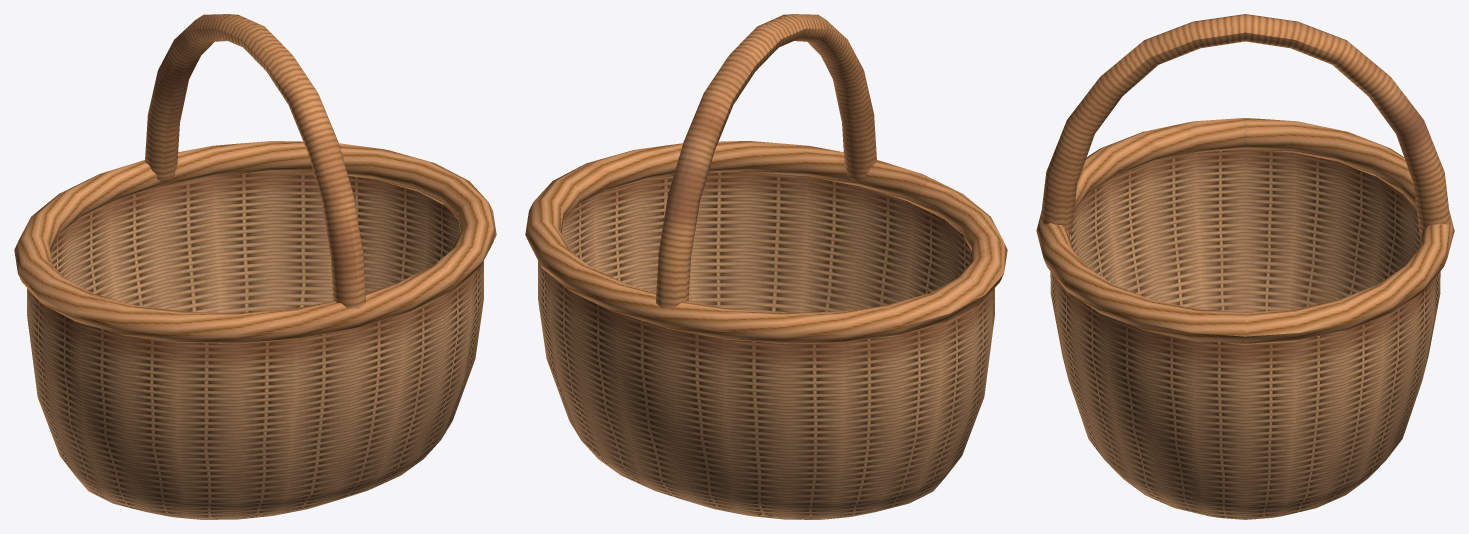
Rendered from shopping_basket.glb.
3 renders of one model, left to right at view 1: azimuth 30°, elevation 25°; view 2: azimuth 150°, elevation 25°; view 3: azimuth 270°, elevation 25°, orthographic.
Visible parts, largest first — view 1: Object_2; view 2: Object_2; view 3: Object_2.
Boxes of the visible parts, x1,y1,x2,y2 form: Object_2: (14, 14, 496, 519); Object_2: (525, 14, 1007, 519); Object_2: (1036, 14, 1454, 519).
Bounding box in the file's own units: 60 × 61.11 × 50.19.
1 material, 1 textured.
